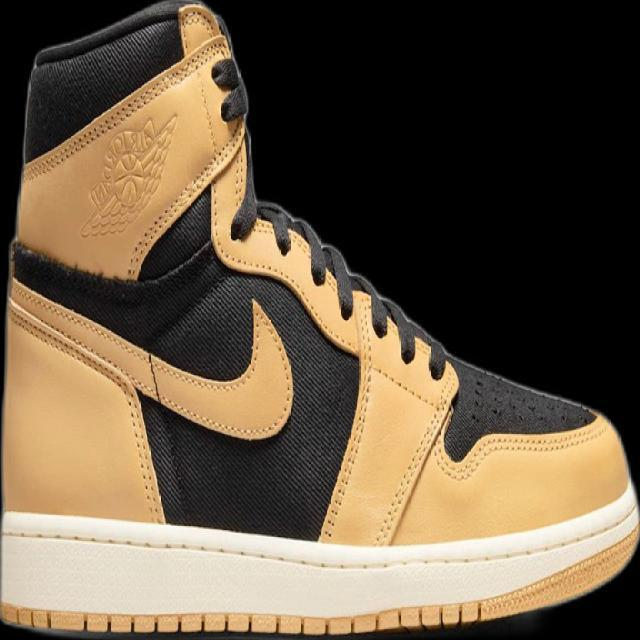J1_InsoleChar: (0, 0, 639, 639)
J1_ShoeLogo: (78, 112, 178, 239)
J1_StitchPattern: (251, 199, 604, 459), (0, 505, 638, 636), (252, 201, 460, 545), (17, 4, 252, 279), (6, 273, 295, 442), (6, 274, 168, 524), (254, 199, 449, 381), (20, 34, 231, 183), (122, 120, 248, 280), (1, 602, 493, 636), (371, 370, 460, 547), (316, 288, 376, 545)
